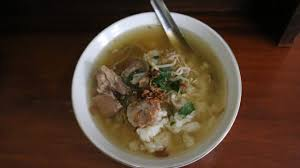soto: (76, 16, 238, 162)
